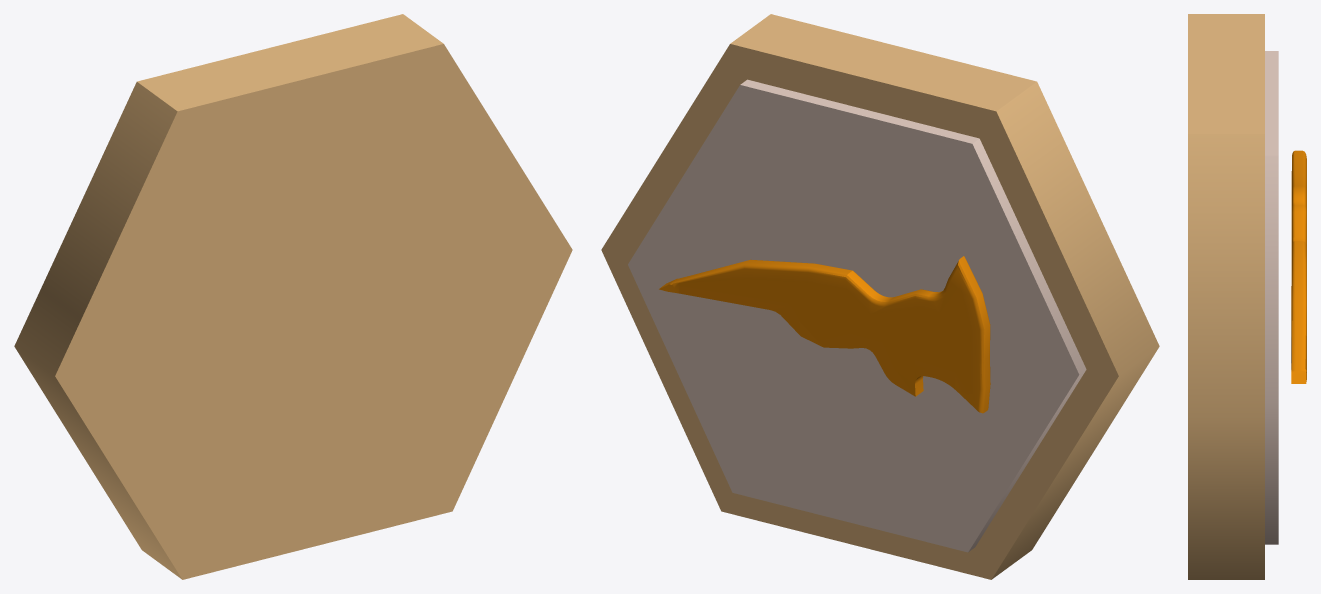
File: Firebreath.fbx
The picture shows the model from 3 angles, left to right: view 1: azimuth 30°, elevation 25°; view 2: azimuth 150°, elevation 25°; view 3: azimuth 270°, elevation 25°; orthographic projection. The views are drawn at different scales.
Parts seen in each view (by area): view 1: pCube4; view 2: pCube4; view 3: pCube4.
Part boxes in pixels (x1=…): pCube4: x1=14, y1=14, x2=572, y2=579; pCube4: x1=601, y1=14, x2=1159, y2=579; pCube4: x1=1188, y1=14, x2=1306, y2=579.
Size of the model in its own units: 6.69 by 5.83 by 1.41.
